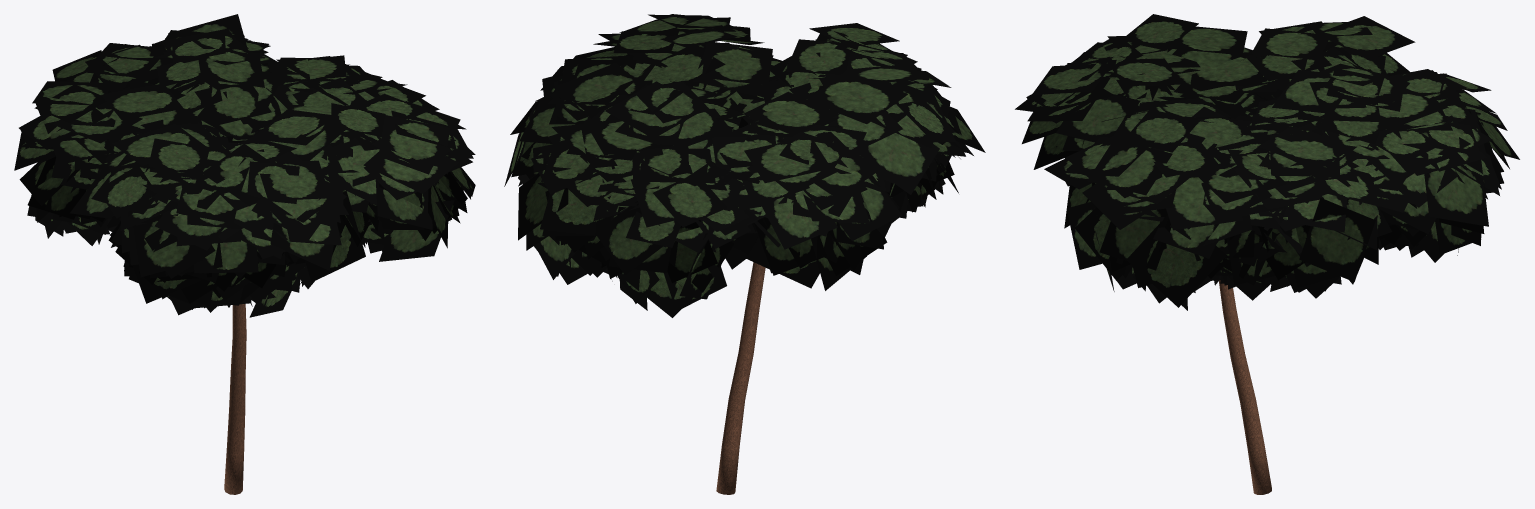
File: SM_Morin_PinoDomestico.fbx
3 views of the same model, side by side, from view 1: azimuth 30°, elevation 25°; view 2: azimuth 150°, elevation 25°; view 3: azimuth 270°, elevation 25° (orthographic). The views are drawn at different scales.
Visible parts, largest first — view 1: SM_Morin_PinoDomestico; view 2: SM_Morin_PinoDomestico; view 3: SM_Morin_PinoDomestico.
Part boxes in pixels (x1,y1,x2,y2): SM_Morin_PinoDomestico: [14, 14, 475, 494]; SM_Morin_PinoDomestico: [504, 14, 985, 494]; SM_Morin_PinoDomestico: [1015, 14, 1519, 494].
Size of what is drawn, in the model's own units: 1682 by 1889 by 1759.
2 materials, 2 textured.
